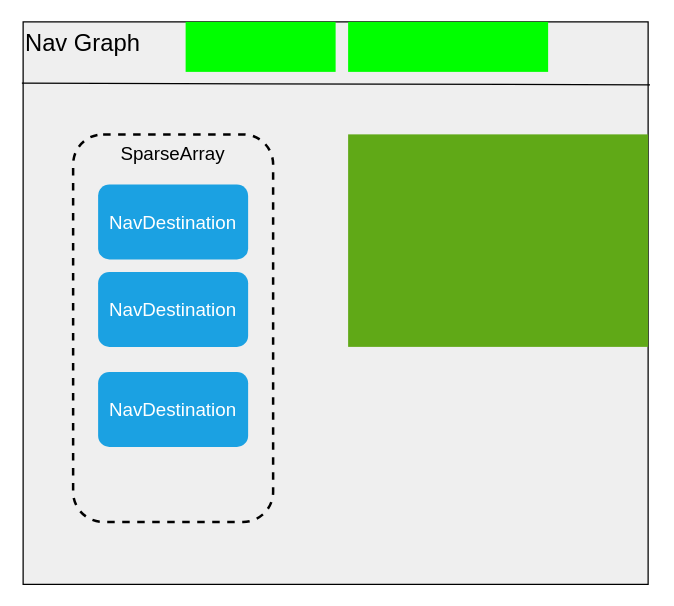
Some shapes in this 674 by 606 pixel diagram are drawn without their labels. The centre of each missing label's shape, as x and y in pixels:
"Extend from NavDestination" goes at pixel 498 240.
"StartDestId" goes at pixel 260 46.
"StartDestIdName" goes at pixel 448 46.
